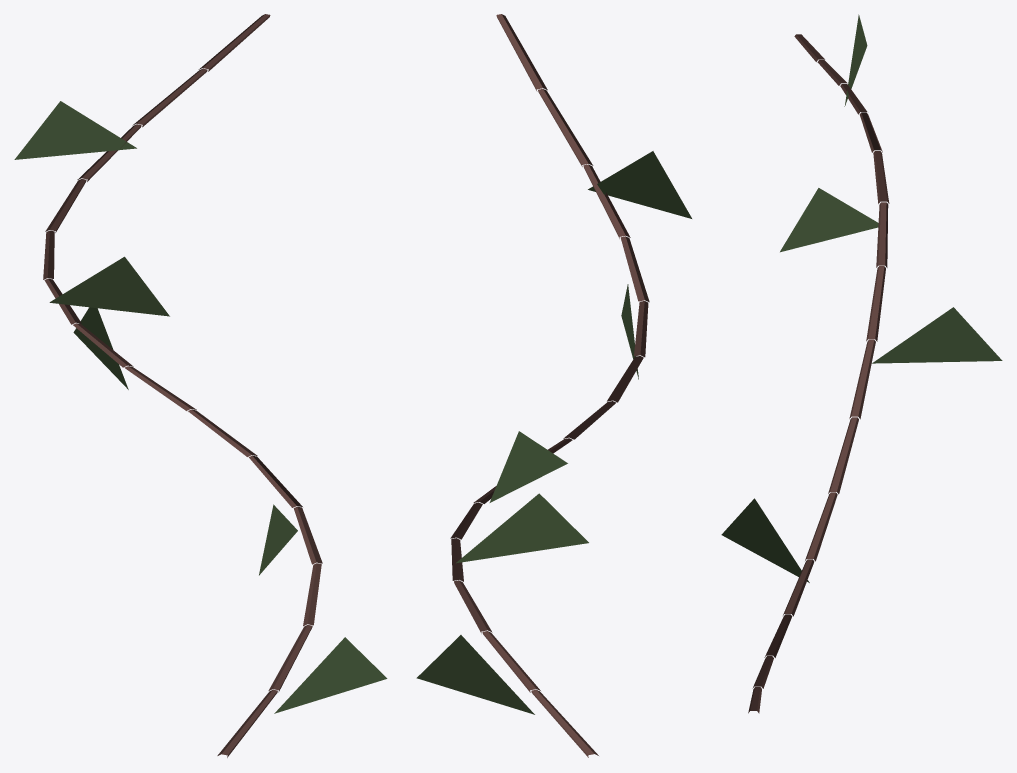
Rendered from vinelargeleaf_1.glb.
The picture shows the model from 3 angles, left to right: view 1: azimuth 30°, elevation 25°; view 2: azimuth 150°, elevation 25°; view 3: azimuth 270°, elevation 25°; orthographic projection. The views are drawn at different scales.
Parts seen in each view (by area): view 1: VineLargeLeaf_1; view 2: VineLargeLeaf_1; view 3: VineLargeLeaf_1.
Part boxes in pixels (x1,y1,x2,y2): VineLargeLeaf_1: (14,14,387,757); VineLargeLeaf_1: (416,14,691,757); VineLargeLeaf_1: (721,14,1002,713).
Size of the model in its own units: 1.13 by 2.4 by 0.8627.
